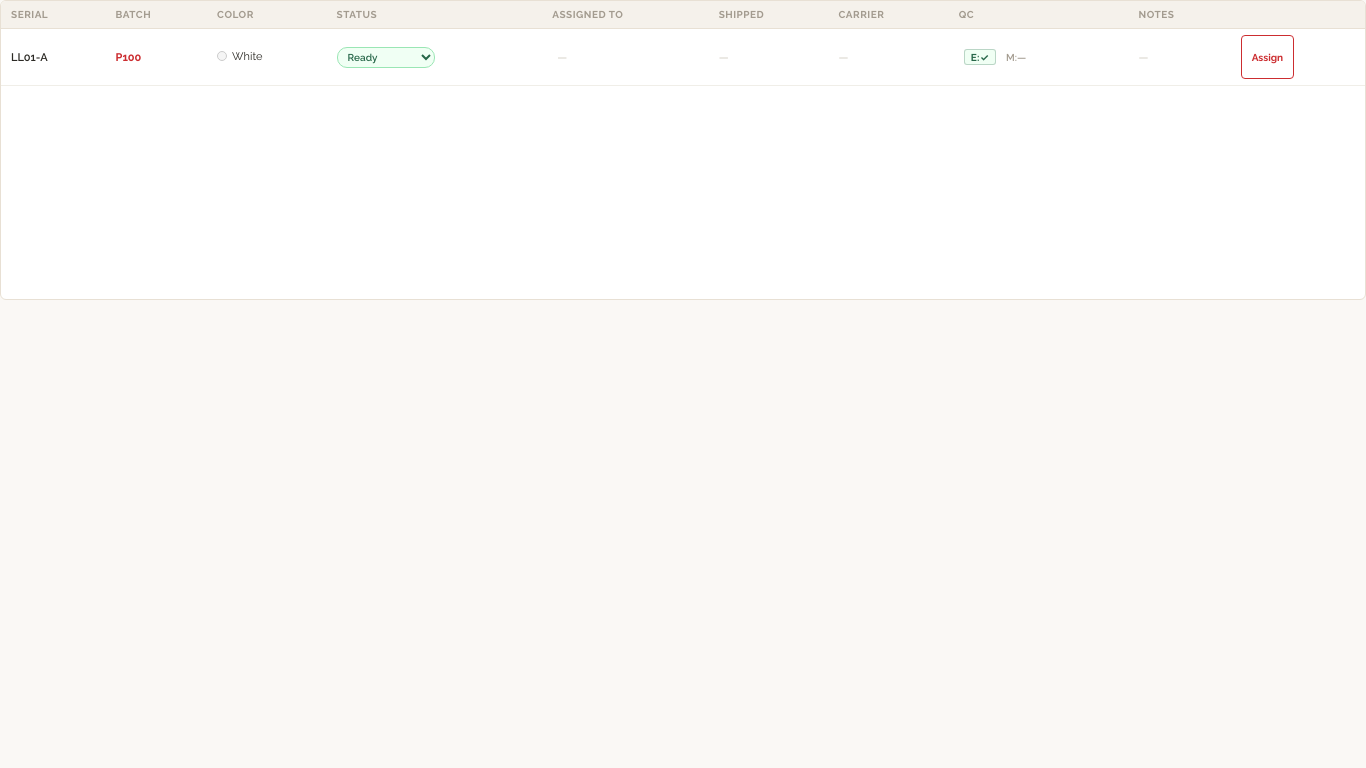
Test: UnitTable — duplicate MAC › rejects a malformed MAC without writing
Click the button titled "Technician:" at (998, 57), box [959, 35, 1037, 79]
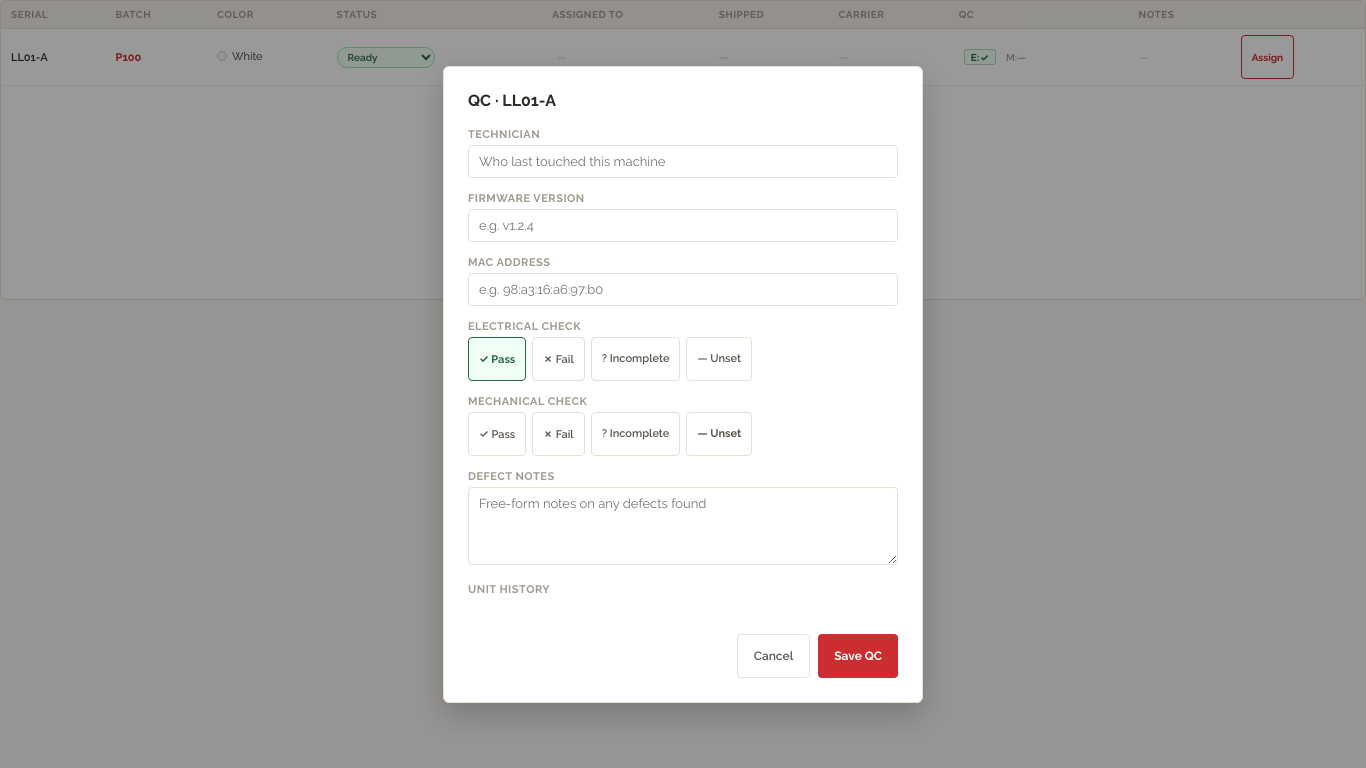
Type "98:a3:16" into the field labelled "MAC address" at (683, 289), box [468, 272, 898, 306]
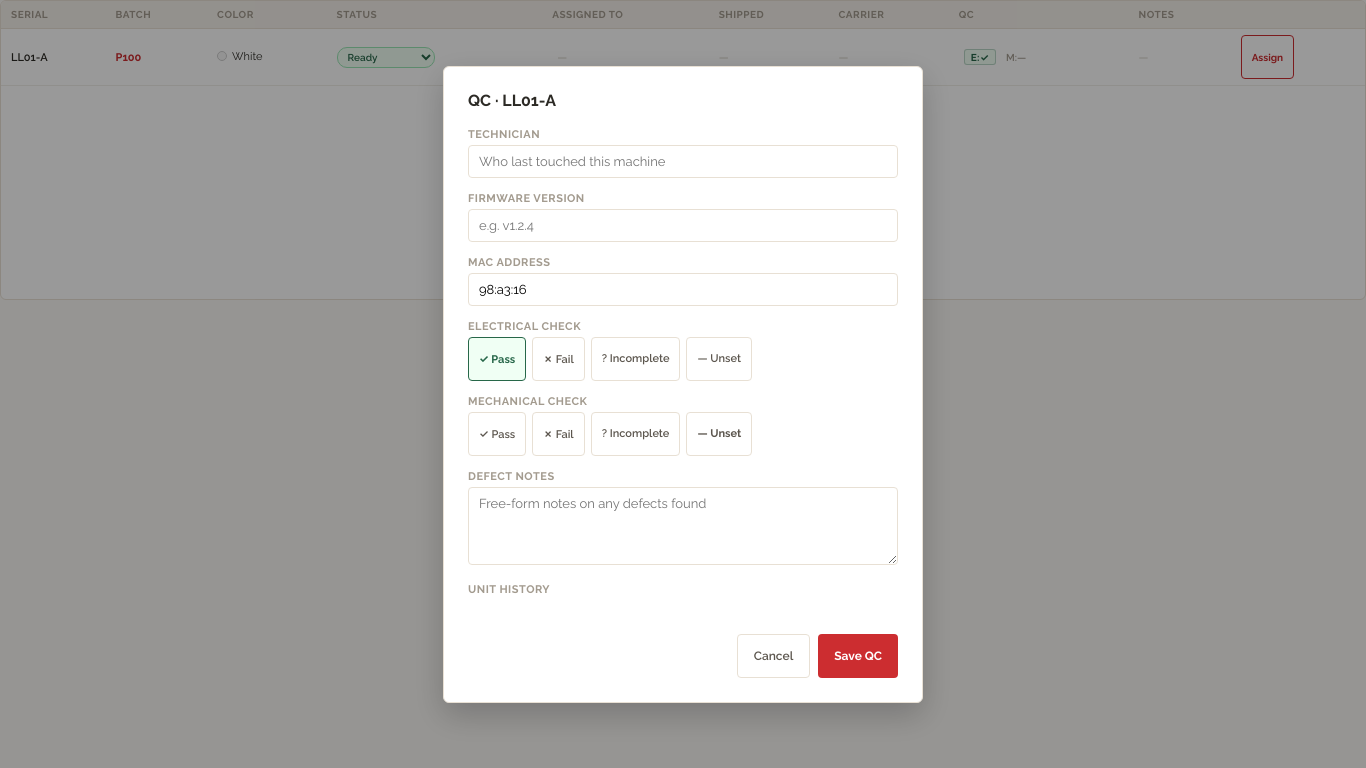
Click the button "Save QC" at (858, 656), box [818, 634, 898, 678]
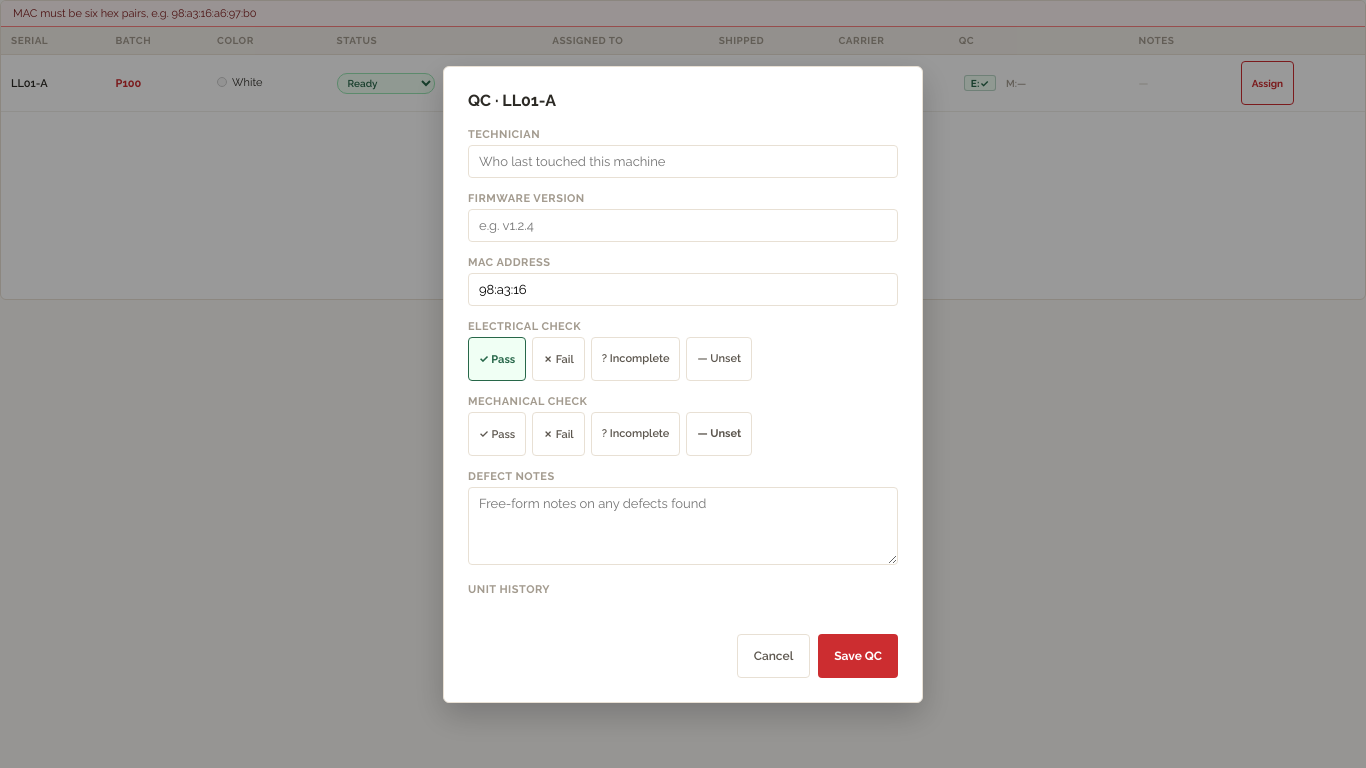
Result: the text "MAC must be six hex pairs, e.g. 98:a3:16:a6:97:b0" is shown at [1, 1, 1365, 27]
